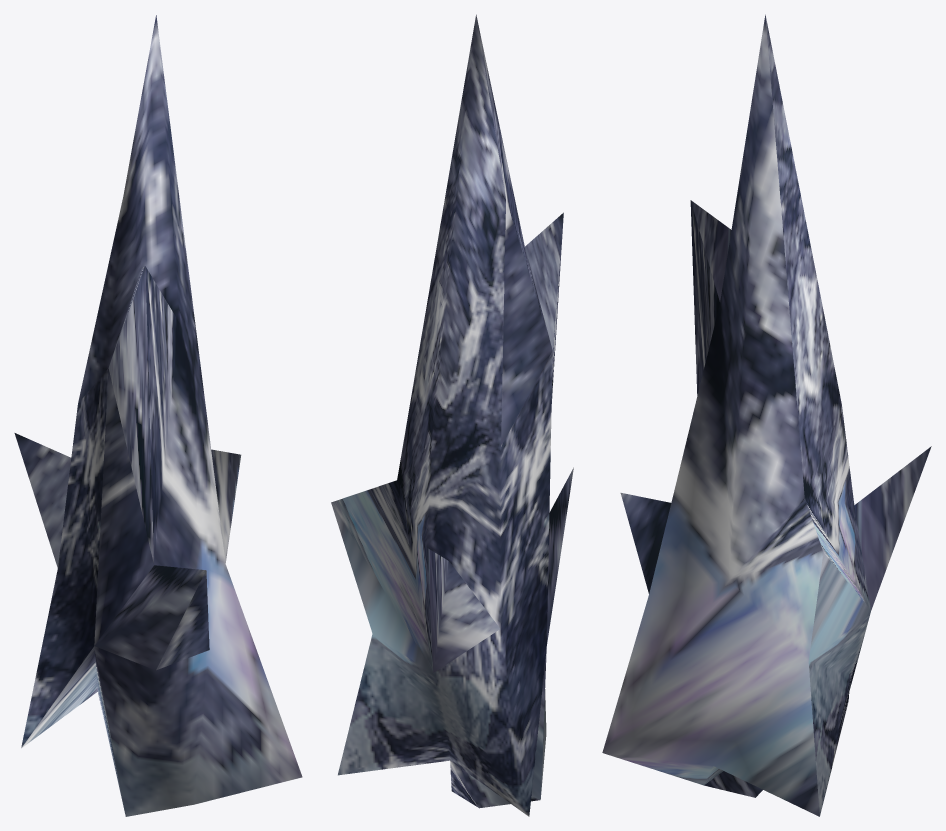
File: ishade_ice_ground.glb
The picture shows the model from 3 angles, left to right: view 1: azimuth 30°, elevation 25°; view 2: azimuth 150°, elevation 25°; view 3: azimuth 270°, elevation 25°; orthographic projection. The views are drawn at different scales.
Parts seen in each view (by area): view 1: ishade_ice_ground; view 2: ishade_ice_ground; view 3: ishade_ice_ground.
Part boxes in pixels (x1=…): ishade_ice_ground: x1=14, y1=15, x2=302, y2=816; ishade_ice_ground: x1=331, y1=14, x2=573, y2=816; ishade_ice_ground: x1=602, y1=14, x2=931, y2=816.
Bounding box in the file's own units: 7.08 × 25.53 × 9.83.
Materials: 1 (1 with a texture image).
